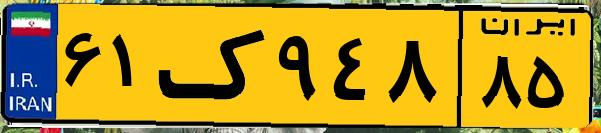1: (110, 28, 158, 98)
4: (330, 28, 385, 110)
5: (525, 38, 570, 115)
6: (57, 26, 110, 100)
8: (385, 28, 445, 110), (475, 38, 525, 113)
9: (270, 28, 330, 110)
ک: (158, 12, 270, 120)
